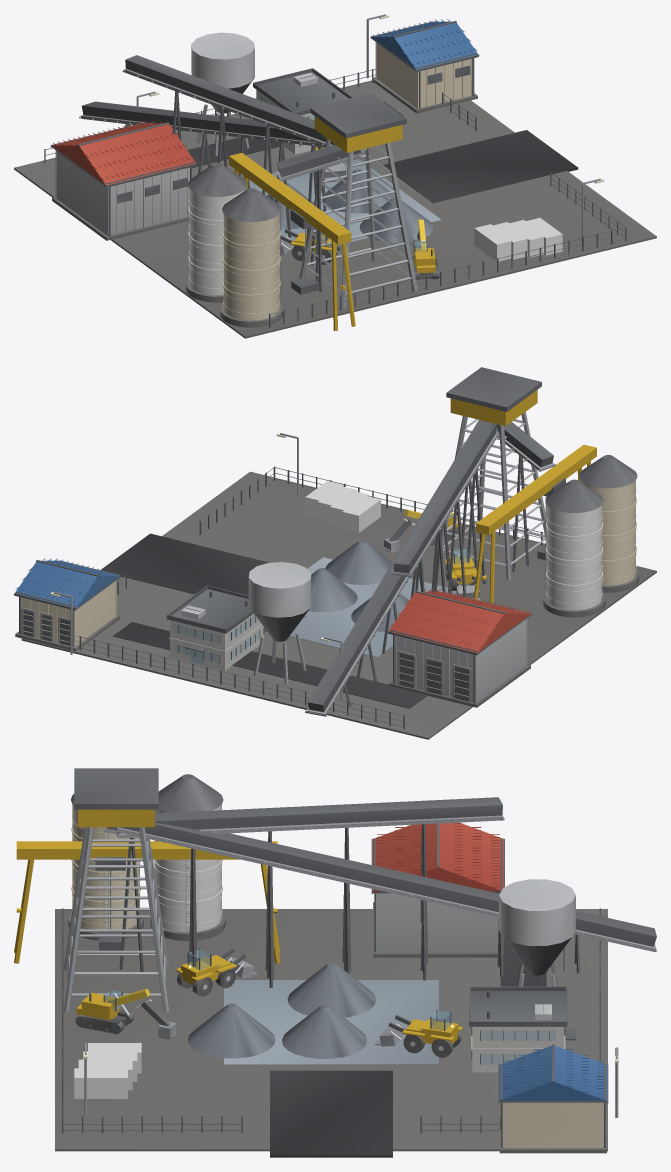
The model's file is Depot_P2.fbx.
3 views of the same model, one above another, from view 1: azimuth 30°, elevation 25°; view 2: azimuth 150°, elevation 25°; view 3: azimuth 270°, elevation 25° (orthographic). The views are drawn at different scales.
Parts seen in each view (by area): view 1: Depot.Yard, Depot.Shed1, Depot.Tower, Depot.Shed2, Depot.Silo0, Depot.ConvA, Depot.Silo1, Depot.ConvMain, Depot.Gantry, Depot.Hopper, Depot.Fence, Depot.Office (+6 smaller); view 2: Depot.Yard, Depot.Shed1, Depot.Silo1, Depot.Shed2, Depot.Tower, Depot.Office, Depot.ConvMain, Depot.ConvA, Depot.Silo0, Depot.Hopper, Depot.Gantry, Depot.Fence (+7 smaller); view 3: Depot.Yard, Depot.Shed1, Depot.ConvMain, Depot.Tower, Depot.Shed2, Depot.ConvA, Depot.Office, Depot.Silo1, Depot.Hopper, Depot.Gantry, Depot.Silo0, Depot.Containers (+8 smaller).
Boxes of the visible parts, bbox=[...] form: Depot.Yard: bbox=[14, 80, 656, 338]; Depot.Shed1: bbox=[50, 120, 196, 240]; Depot.Tower: bbox=[299, 93, 417, 309]; Depot.Shed2: bbox=[370, 19, 479, 113]; Depot.Silo0: bbox=[220, 188, 282, 327]; Depot.ConvA: bbox=[122, 55, 367, 266]; Depot.Silo1: bbox=[186, 163, 246, 302]; Depot.ConvMain: bbox=[79, 101, 328, 265]; Depot.Gantry: bbox=[229, 153, 355, 330]; Depot.Hopper: bbox=[191, 32, 254, 155]; Depot.Fence: bbox=[44, 68, 626, 327]; Depot.Office: bbox=[253, 68, 352, 154]; Depot.Yard: bbox=[21, 471, 656, 739]; Depot.Shed1: bbox=[388, 589, 532, 707]; Depot.Silo1: bbox=[543, 479, 605, 617]; Depot.Shed2: bbox=[14, 558, 121, 651]; Depot.Tower: bbox=[436, 367, 545, 580]; Depot.Office: bbox=[166, 585, 263, 670]; Depot.ConvMain: bbox=[305, 420, 497, 716]; Depot.ConvA: bbox=[390, 423, 499, 596]; Depot.Silo0: bbox=[579, 455, 639, 592]; Depot.Hopper: bbox=[248, 562, 311, 684]; Depot.Gantry: bbox=[473, 444, 596, 603]; Depot.Fence: bbox=[75, 466, 545, 729]; Depot.Yard: bbox=[55, 909, 607, 1157]; Depot.Shed1: bbox=[371, 822, 504, 957]; Depot.ConvMain: bbox=[116, 822, 656, 991]; Depot.Tower: bbox=[63, 768, 169, 1012]; Depot.Shed2: bbox=[498, 1044, 608, 1153]; Depot.ConvA: bbox=[115, 797, 504, 979]; Depot.Office: bbox=[469, 986, 575, 1072]; Depot.Silo1: bbox=[150, 774, 225, 941]; Depot.Hopper: bbox=[499, 879, 575, 986]; Depot.Gantry: bbox=[14, 841, 280, 963]; Depot.Silo0: bbox=[68, 794, 143, 940]; Depot.Containers: bbox=[74, 1043, 141, 1098].
Size of the model in its own units: 7717 by 2966 by 8370.
